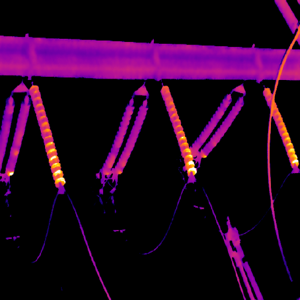insulator: (27, 83, 66, 185), (160, 84, 196, 175), (262, 85, 299, 169), (200, 95, 244, 159), (112, 98, 149, 173), (101, 98, 134, 175), (188, 94, 230, 153), (2, 96, 29, 173), (0, 96, 13, 168)
